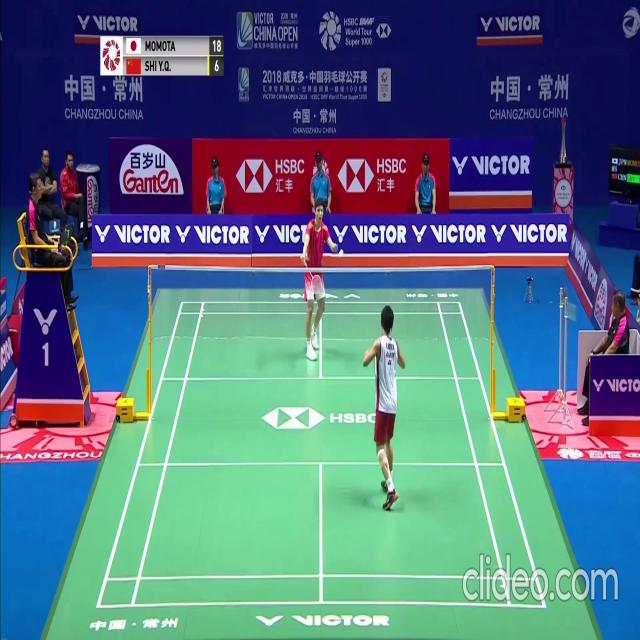Shuttlecock: (339, 250, 343, 258)
